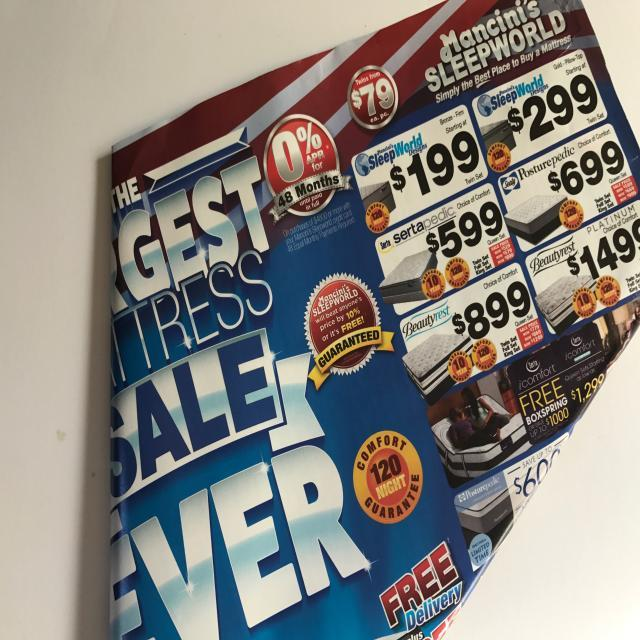paper: (109, 0, 640, 639)
